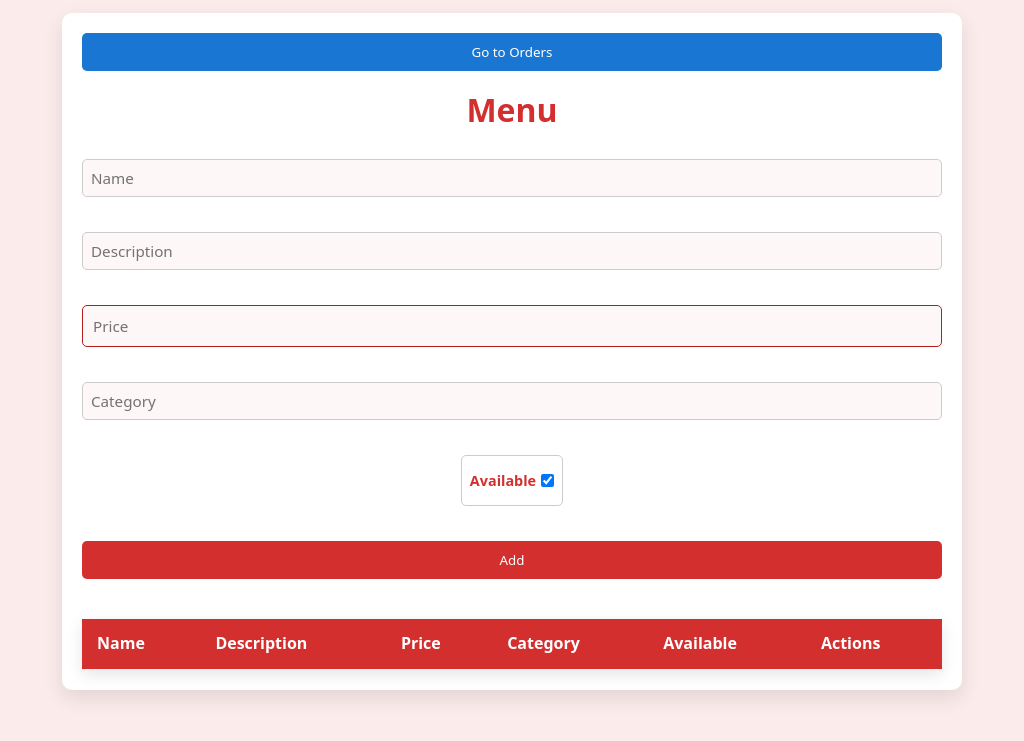
Menu Component › adds a new menu item
Type "Pasta" into the field with placeholder "Name" at (512, 178), box [82,159,942,197]
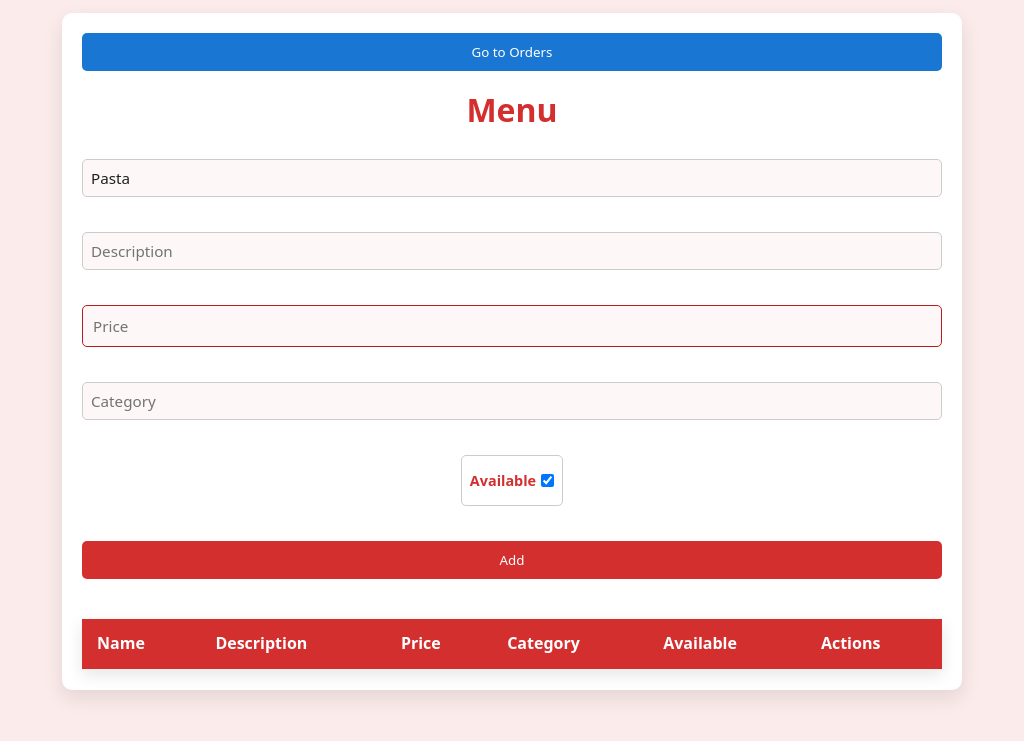
Type "Tomato" into the field with placeholder "Description" at (512, 251), box [82,232,942,270]
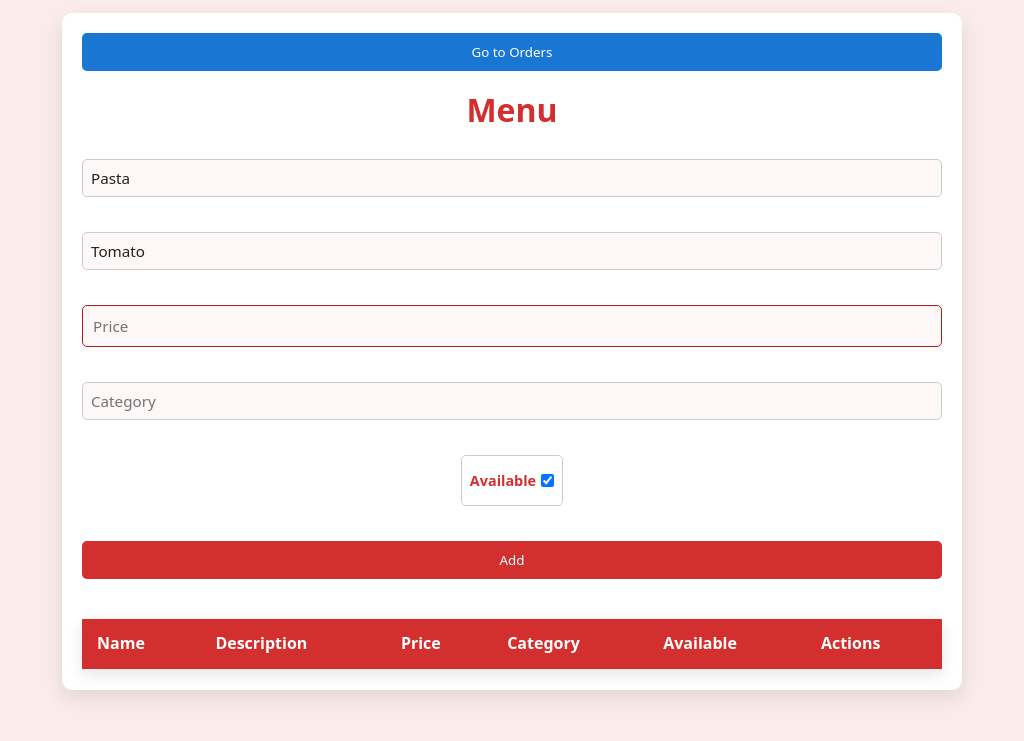
Type "12" into the number field with placeholder "Price" at (512, 326), box [82,305,942,347]
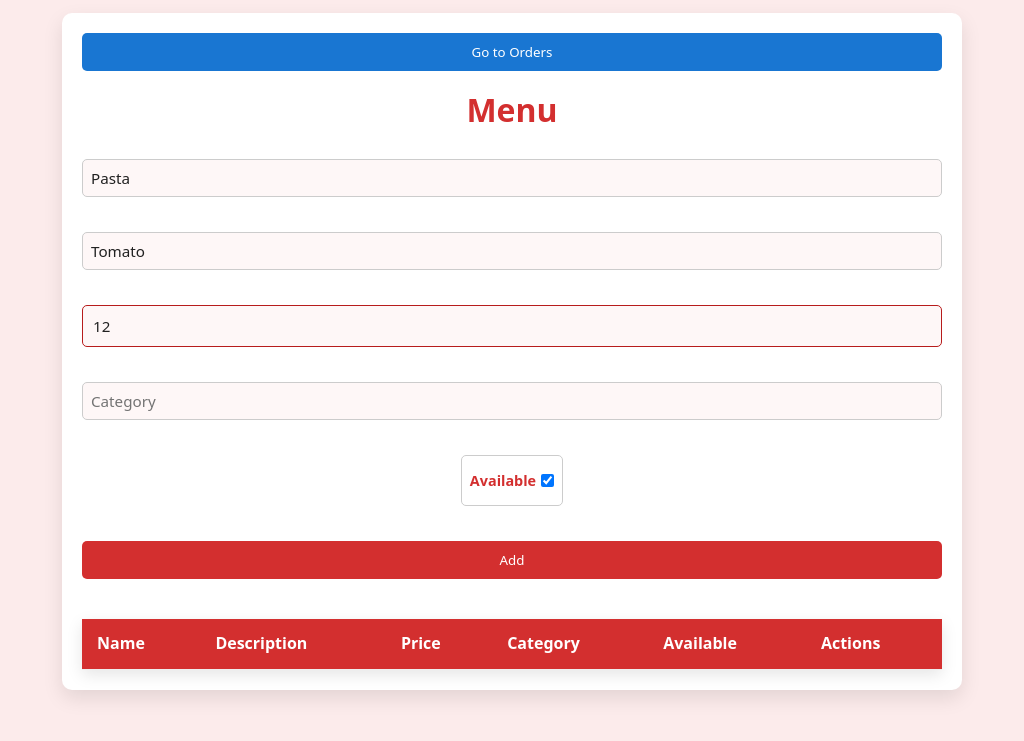
Type "Italian" into the field with placeholder "Category" at (512, 401), box [82,382,942,420]
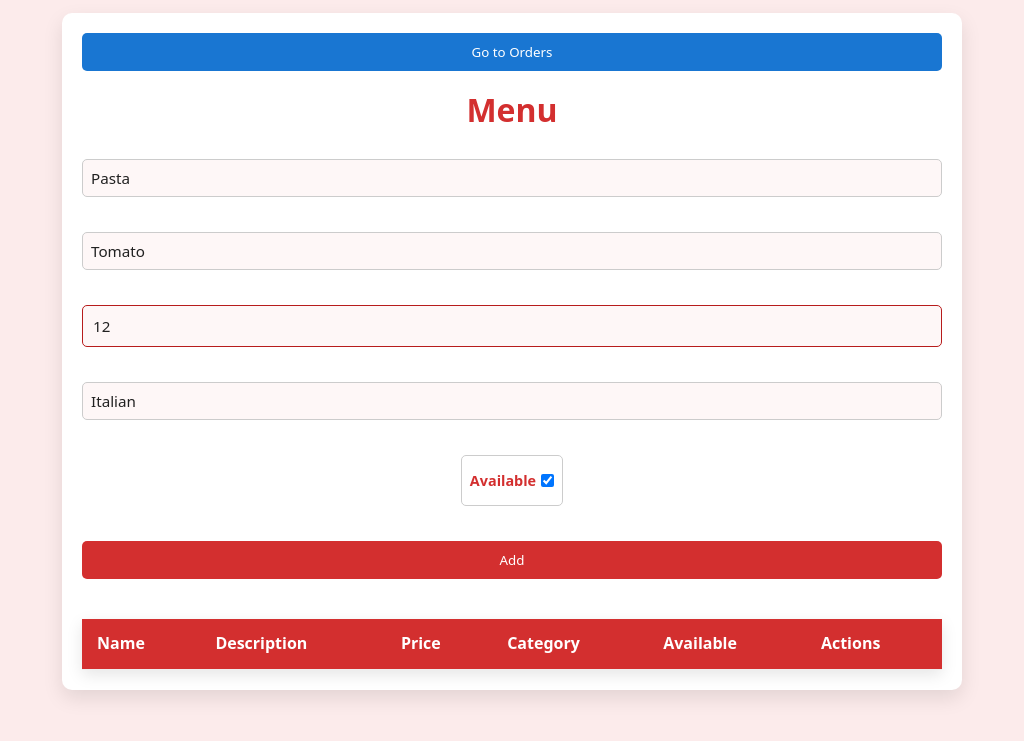
Click the button "Add" at (512, 560), box [82,541,942,579]
(page scrolled)
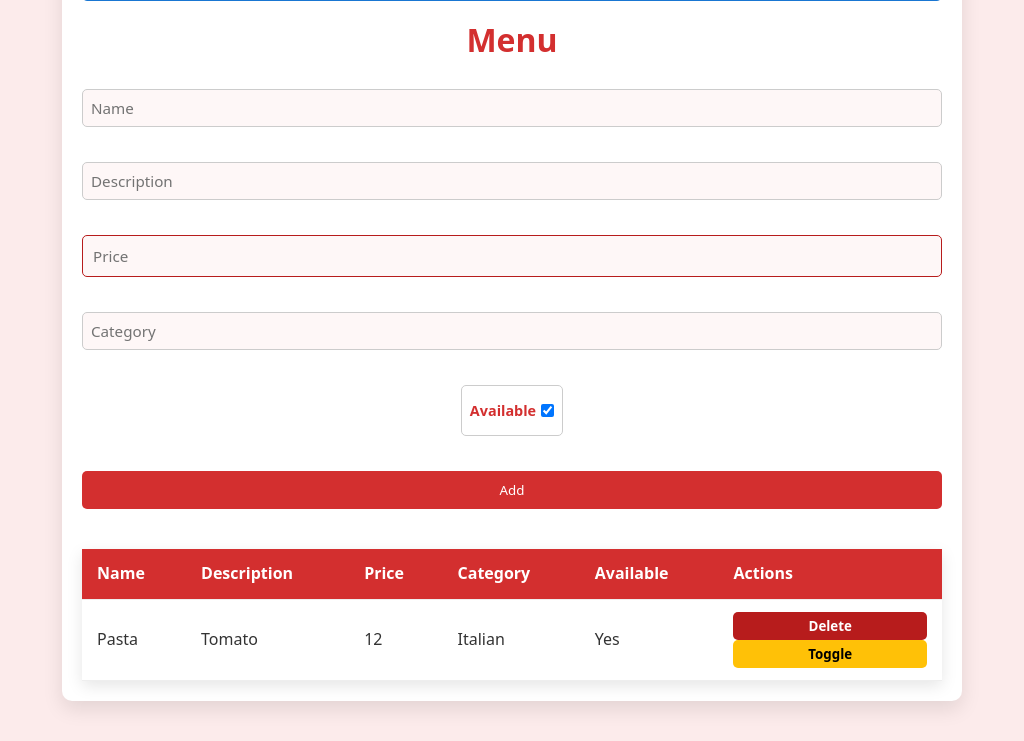
Now the text "Pasta" is shown, box [82,600,186,680]
